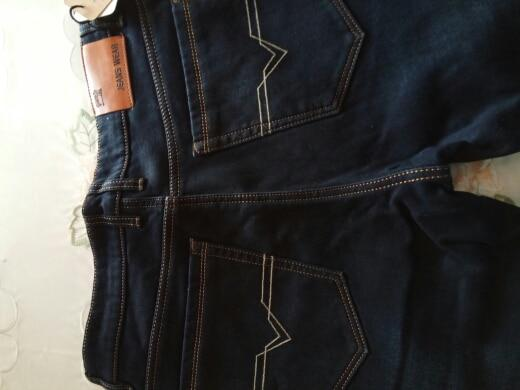jeans: (67, 4, 520, 379)
